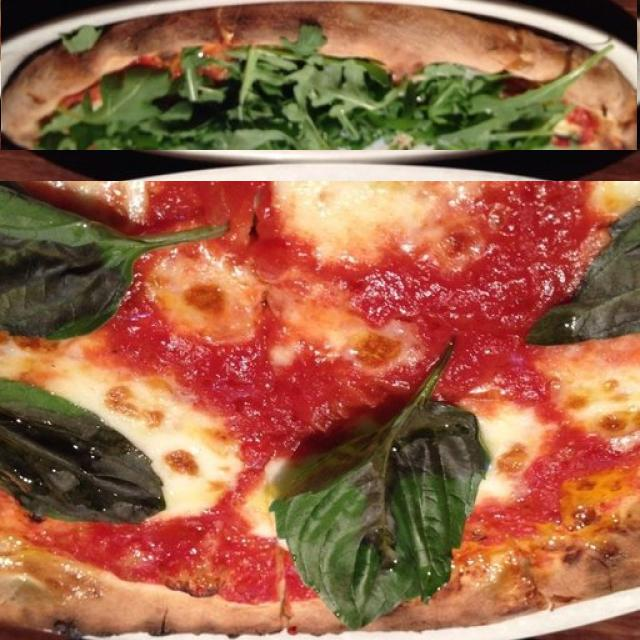basil: (149, 192, 370, 486), (410, 482, 640, 639), (475, 293, 640, 444), (0, 473, 115, 616)
pizza: (0, 181, 640, 640), (1, 0, 637, 150)
